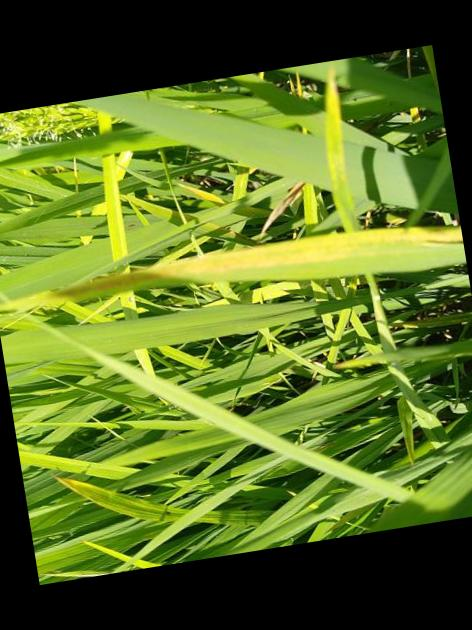Leaf Streak: (64, 224, 464, 297)
